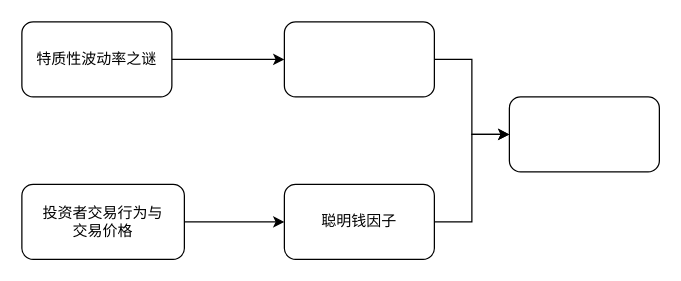
Image size: 681x281. Some labels were removed from this diagram. Here are the shapes that lost their labels. From the top down, the centre of each, then its label:
the point at 358,59: 日内特质性波动率
the point at 583,134: 因子构建
